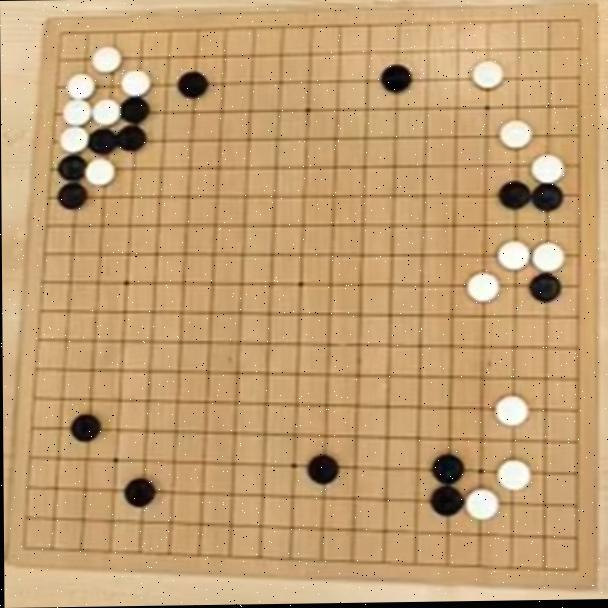corners: (547, 546, 593, 593), (555, 0, 598, 46), (42, 17, 85, 49), (5, 529, 41, 563)
